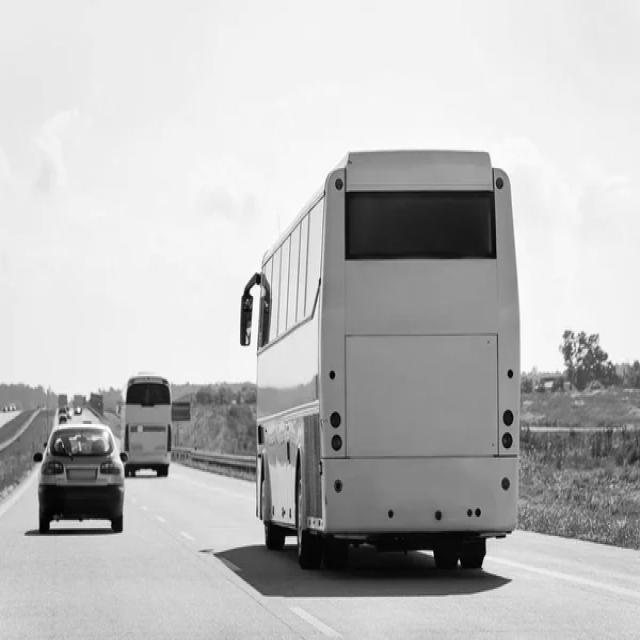Bus: (232, 142, 532, 558), (110, 369, 184, 486)
Car: (26, 417, 132, 536)
